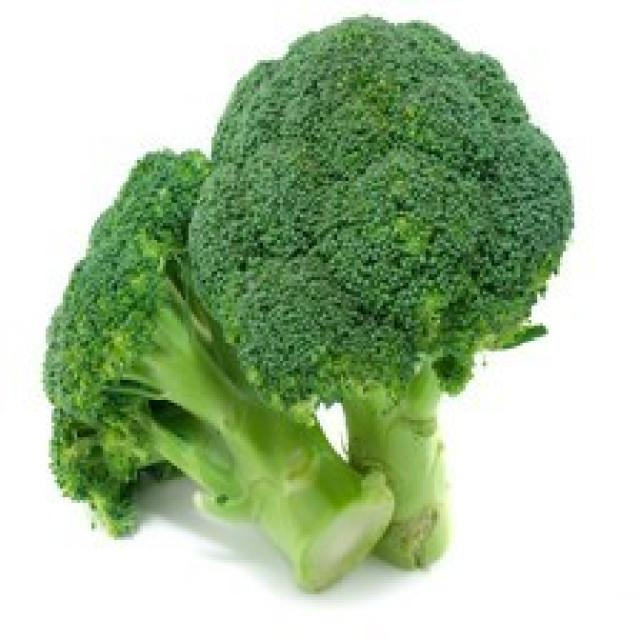Broccoli: (49, 18, 572, 589), (49, 18, 572, 589)
